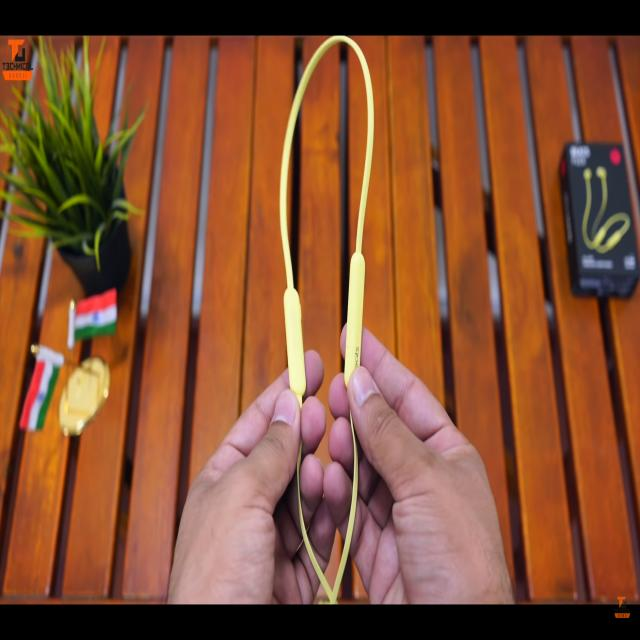Neckband: (279, 34, 375, 604)
